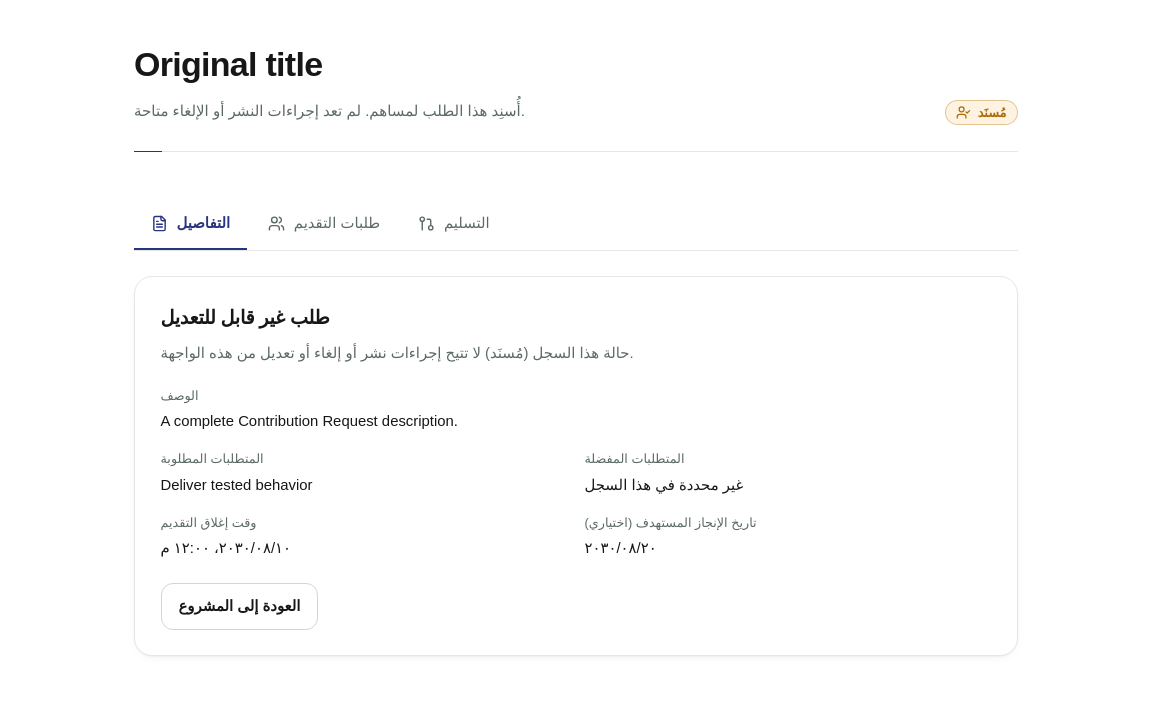
Test case: Contribution Request owner lifecycle interactions › composes the delivery workspace behind its own owner tab
The image size is (1152, 720).
Expected: the text "مساحة مراجعة التسليم" is not shown
Click the button "التسليم" at (454, 224), box x1=401 y1=199 x2=507 y2=250
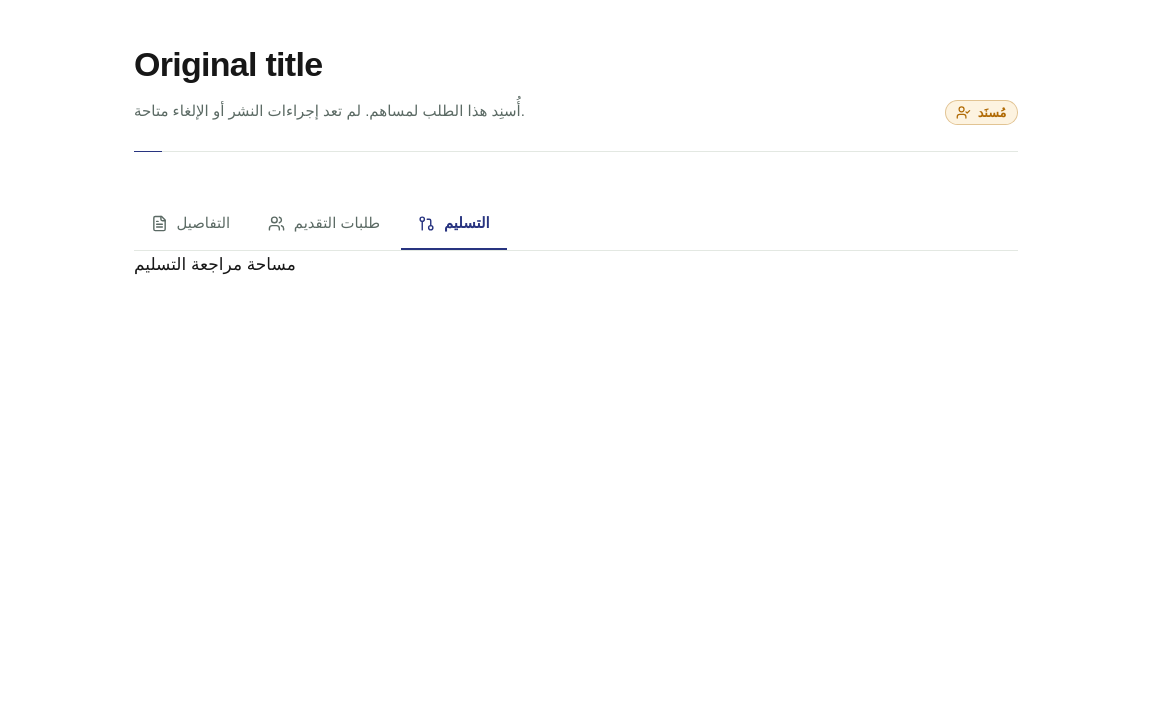
Now the text "مساحة مراجعة التسليم" is shown, box x1=134 y1=255 x2=296 y2=274
